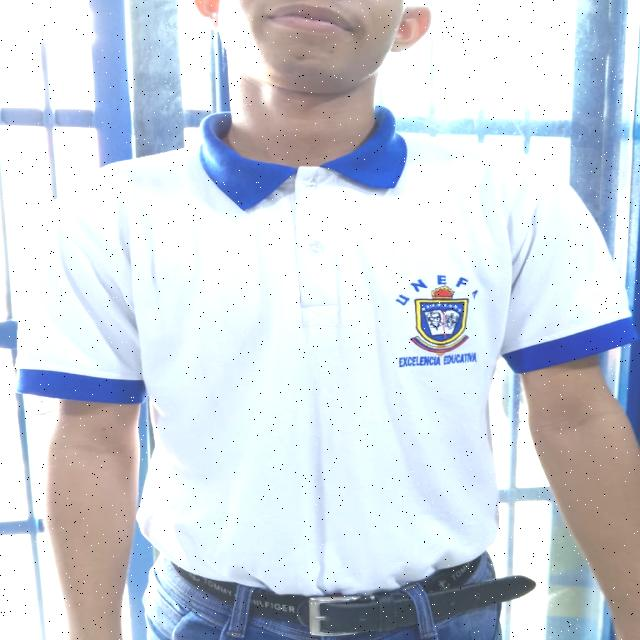uniforme_superior: (13, 103, 637, 593)
